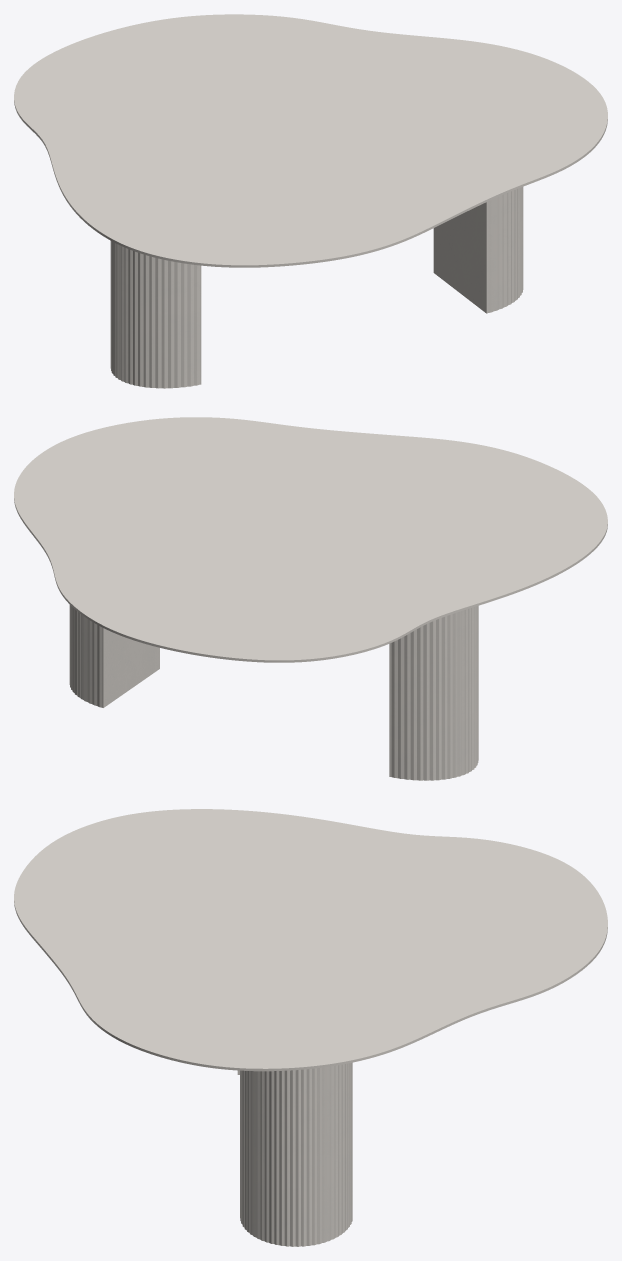
Rendered from pearlwhite_topone_facet_flute.glb.
3 renders of one model, top to bottom at view 1: azimuth 30°, elevation 25°; view 2: azimuth 150°, elevation 25°; view 3: azimuth 270°, elevation 25°, orthographic. The views are drawn at different scales.
Parts seen in each view (by area): view 1: facet_topone, flute; view 2: facet_topone, flute; view 3: facet_topone, flute.
Boxes of the visible parts, x1,y1,x2,y2 form: facet_topone: [14, 14, 607, 267]; flute: [110, 187, 523, 388]; facet_topone: [14, 417, 607, 662]; flute: [69, 605, 478, 780]; facet_topone: [14, 809, 607, 1071]; flute: [237, 1062, 352, 1246].
Bounding box in the file's own units: 6.83 × 2.5 × 6.6.
1 material, 1 textured.
